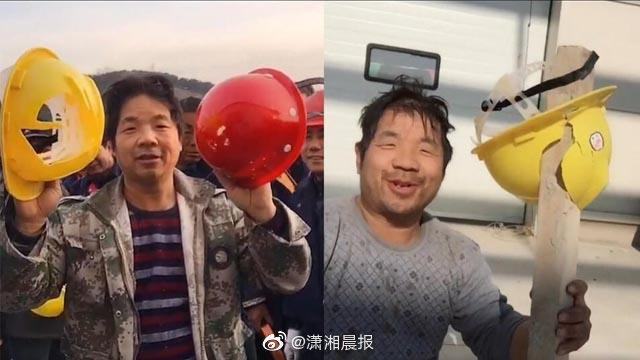helmet: (478, 80, 613, 212), (2, 49, 98, 199), (197, 71, 302, 186)
